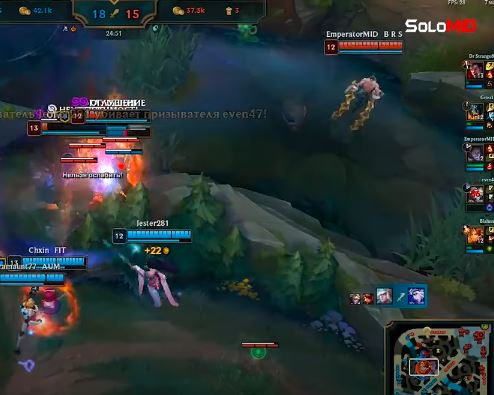bar: (4, 249, 88, 271), (59, 123, 152, 140), (322, 37, 405, 56), (69, 106, 152, 123), (25, 119, 108, 136), (111, 228, 193, 244), (1, 271, 67, 287)
